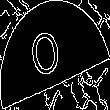O_S: (36, 24, 74, 86)
